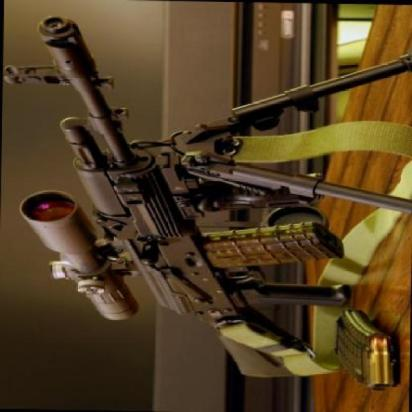Gun: (18, 11, 348, 380)
